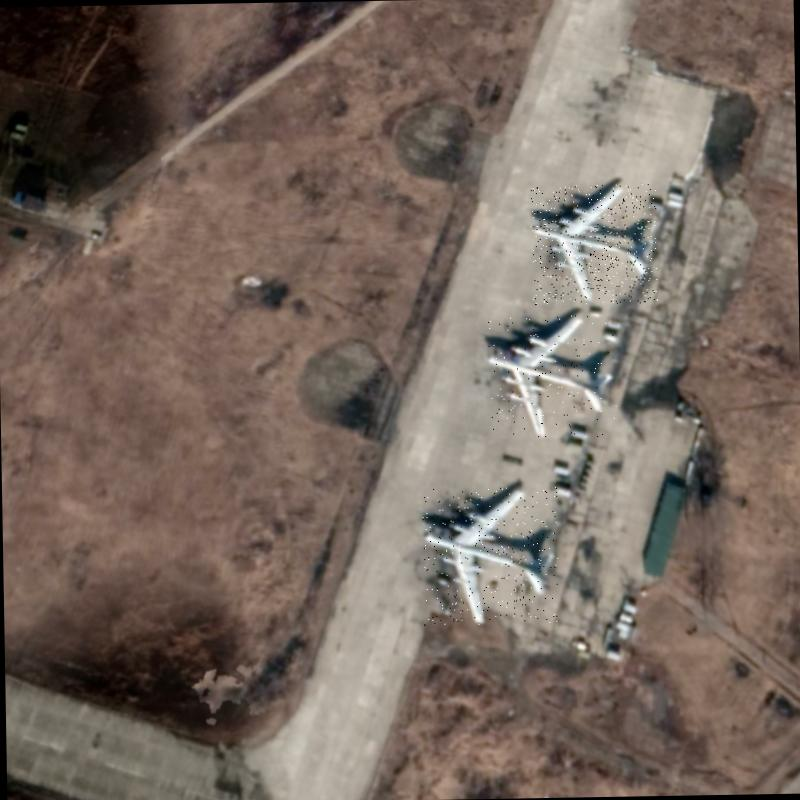A17: (422, 486, 559, 626), (485, 314, 616, 438), (531, 184, 658, 304)
